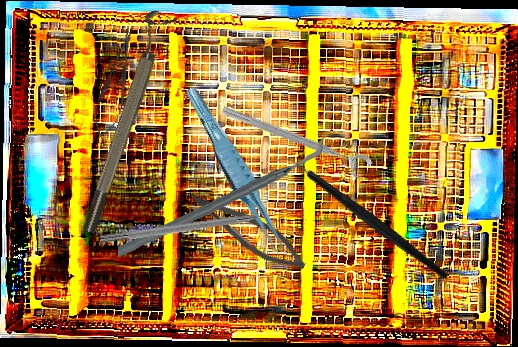Chopper: (273, 115, 451, 322), (112, 136, 330, 258)
Fixation Ring: (69, 7, 178, 236), (216, 101, 374, 184)
Hook Surgical: (99, 209, 280, 246)
Micro Scissor: (181, 184, 314, 279)
Needle Holder: (87, 24, 144, 144)
Tissue Forceps: (183, 79, 293, 272)
